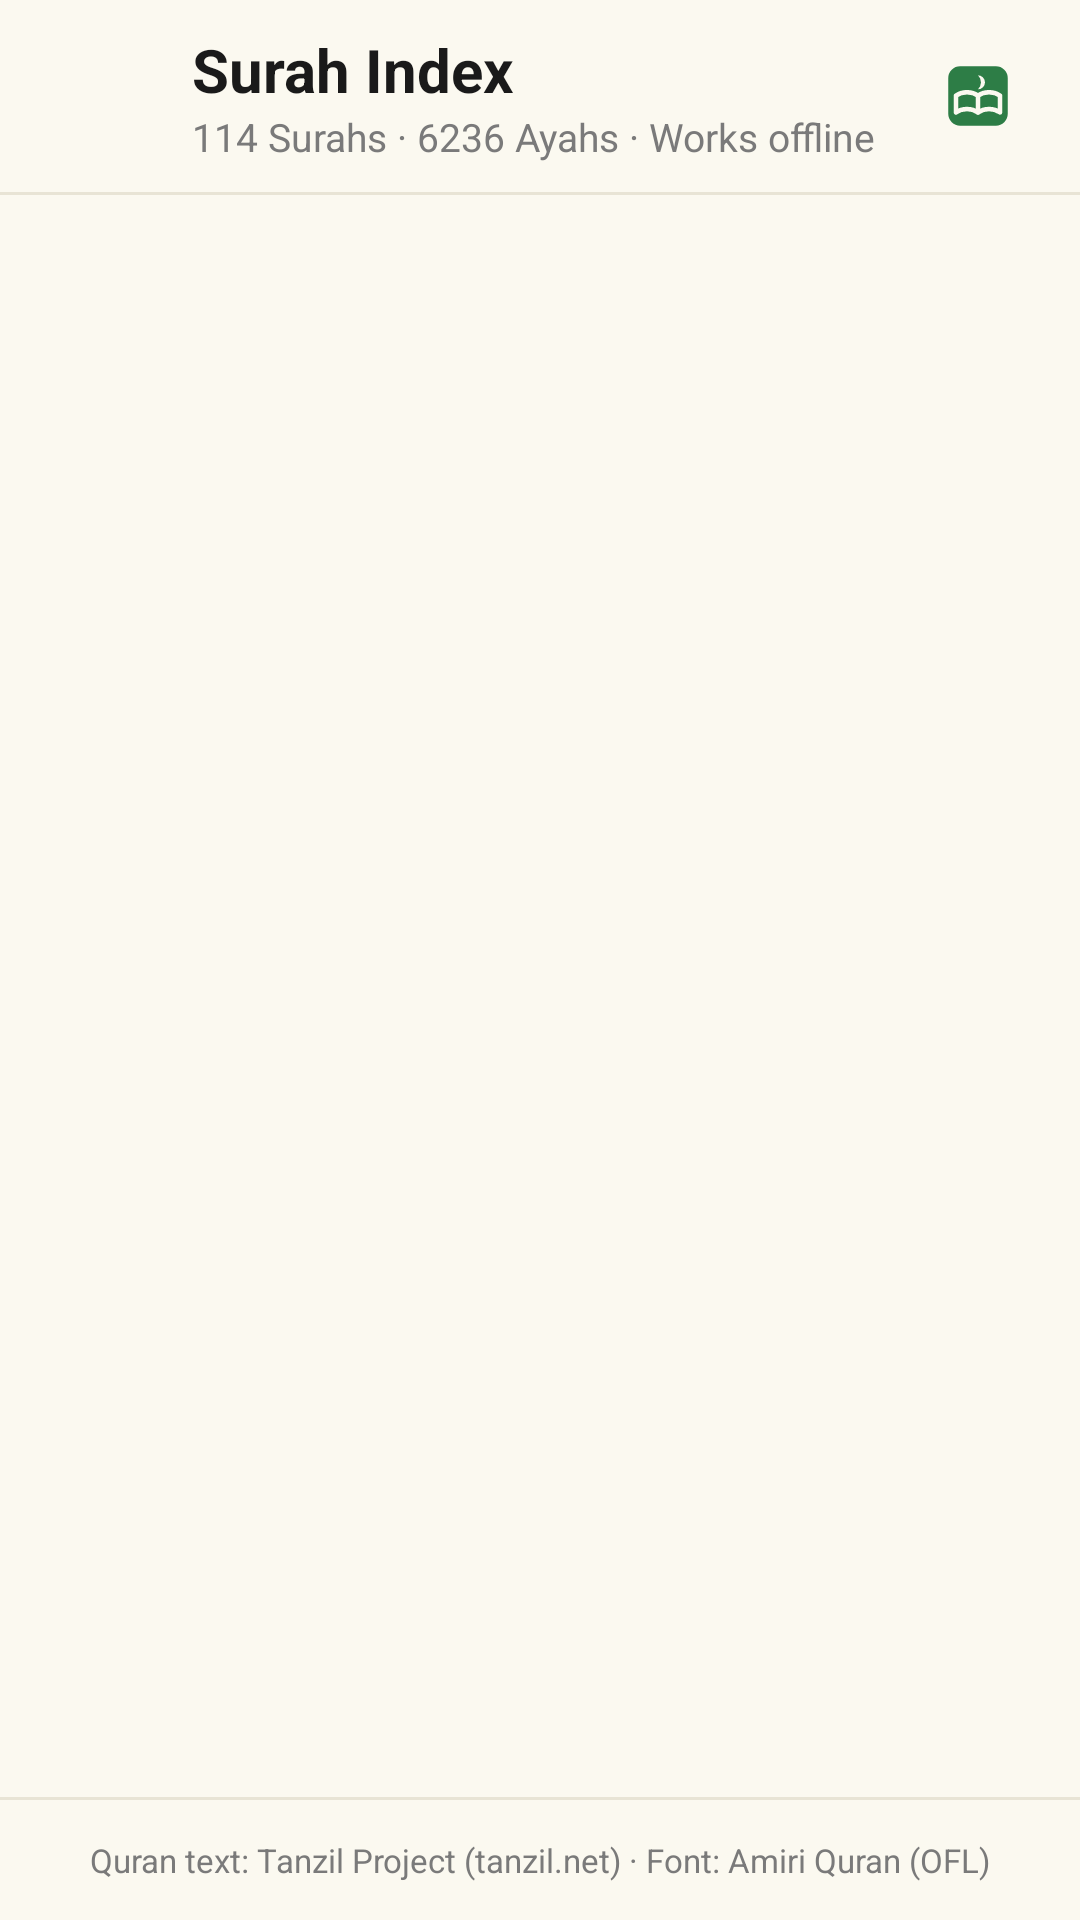

Icons on this 1080x1920 Android screen, each with the point to tap as (x,y):
Quran: (978,96)
